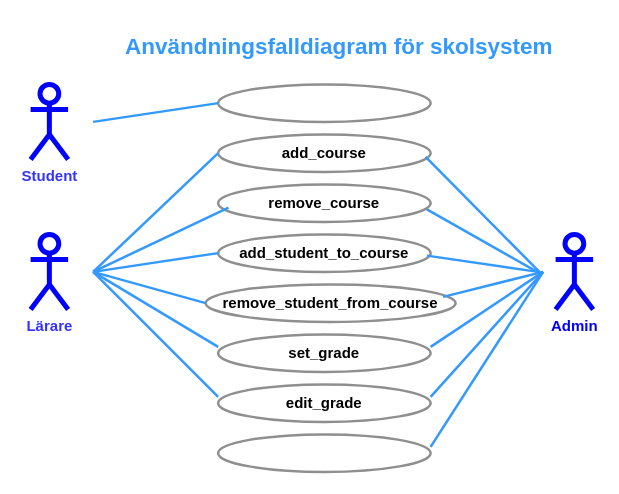
The diagram is 619 pixels wide and 494 high, and some of its shapes have lost their labels. Each missing label, with the centre of its shape:
"view_all_data" goes at pixel 323 452.
"view_courses_and_grades" goes at pixel 323 102.
